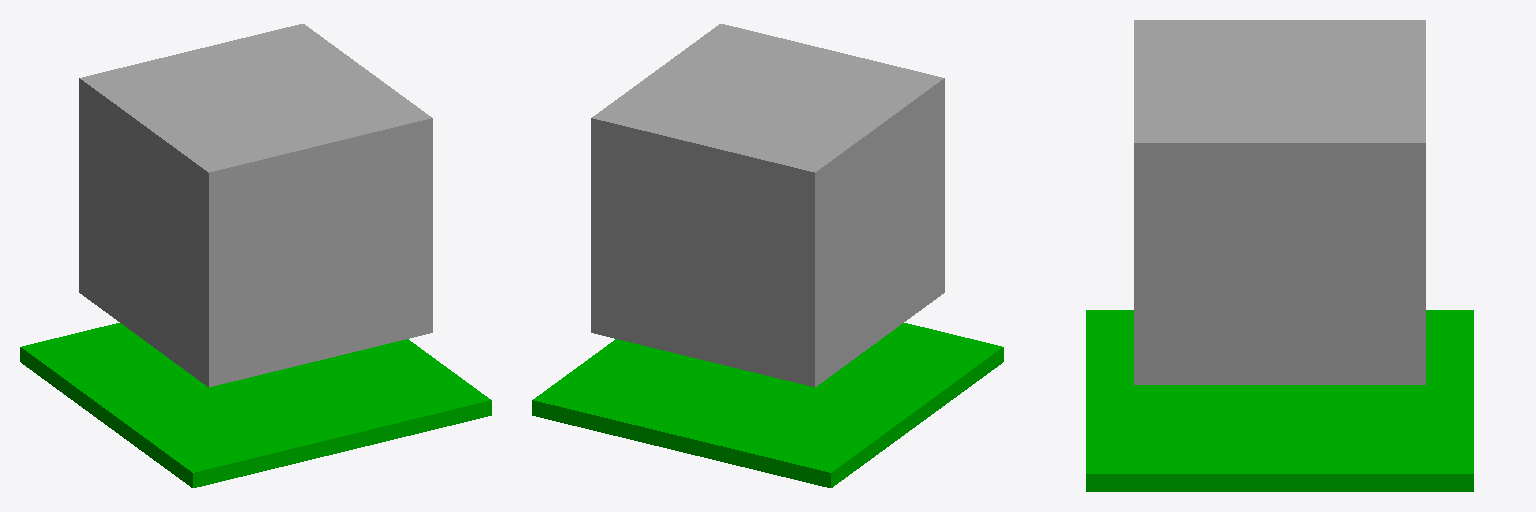
URDF robot description (workcell_bin):
<?xml version="1.0" ?>
<robot name="workcell_bin">
  <link name="workcell_bin_link">
    <inertial>
      <mass value="0"/>
      <origin rpy="0  0  0" xyz="0  0  0"/>
      <inertia ixx="0" ixy="0" ixz="0" iyy="0" iyz="0" izz="0"/>
    </inertial>
    <collision name="workcell_bin_center_collision">
      <origin rpy="0 0 0" xyz="0 0 0.45"/>
      <geometry>
        <box size="0.6 0.6 0.55"/>
      </geometry>
    </collision>
    <visual>
      <origin rpy="0 0 0" xyz="0 0 0.45"/>
      <geometry>
        <box size="0.6 0.6 0.55"/>
      </geometry>
      <material name="Blue">
        <color rgba="0.7 0.7 0.7 1.0"/>
        <texture filename="model://ur_description/material/gazebo.material" />
      </material>
    </visual>
    <collision name="workcell_bin_base">
      <origin rpy="0  0  0" xyz="0       0       0.10024"/>
      <geometry>
        <box size="0.66836 0.66836 0.20049"/>
      </geometry>
    </collision>
    <collision name="workcell_bin_left_wall">
      <origin rpy="0  0  0" xyz="-0.319    0       0.39544"/>
      <geometry>
        <box size="0.003 0.63803 0.79089"/>
      </geometry>
    </collision>
    <collision name="workcell_bin_right_wall">
      <origin rpy="0  0  0" xyz="0.319    0       0.39544"/>
      <geometry>
        <box size="0.003 0.63803 0.79089"/>
      </geometry>
    </collision>
    <collision name="workcell_bin_front_left_wall">
      <origin rpy="0  0  0" xyz="-0.2533   0.31899  0.39544"/>
      <geometry>
        <box size="0.13437 0.003 0.79089"/>
      </geometry>
    </collision>
    <collision name="workcell_bin_front_mid_wall">
      <origin rpy="0  0  0" xyz="0       0.31899  0.25284"/>
      <geometry>
        <box size="0.37226 0.003 0.50569"/>
      </geometry>
    </collision>
    <collision name="workcell_bin_front_right_wall">
      <origin rpy="0  0  0" xyz="0.2533   0.31899  0.39544"/>
      <geometry>
        <box size="0.13437 0.003 0.79089"/>
      </geometry>
    </collision>
    <collision name="workcell_bin_back_left_wall">
      <origin rpy="0  0  0" xyz="-0.2533  -0.31899  0.39544"/>
      <geometry>
        <box size="0.13437 0.003 0.79089"/>
      </geometry>
    </collision>
    <collision name="workcell_bin_back_mid_wall">
      <origin rpy="0  0  0" xyz="0      -0.31899  0.25284"/>
      <geometry>
        <box size="0.37226 0.003 0.50569"/>
      </geometry>
    </collision>
    <collision name="workcell_bin_back_right_wall">
      <origin rpy="0  0  0" xyz="0.2533  -0.31899  0.39544"/>
      <geometry>
        <box size="0.13437 0.003 0.79089"/>
      </geometry>
    </collision>
    <visual name="workcell_bin_visual">
      <origin rpy="0  0  0" xyz="0  0  0"/>
      <geometry>
        <mesh filename="model://workcell_bin/meshes/bin.dae"/>
      </geometry>
    </visual>
  </link>

  <gazebo reference="workcell_bin_link">
    <material>Gazebo/Blue</material>
  </gazebo>
</robot>

--- What the picture shows (computed from the rendered views, not written in the file) ---
3 views of the same robot in one strip: view 1: azimuth 30°, elevation 25°; view 2: azimuth 150°, elevation 25°; view 3: azimuth 270°, elevation 25° (orthographic).
Robot: workcell_bin — 1 links, 0 joints (none); root link workcell_bin_link; default pose: all joints at 0.
Links seen in each view (by area): view 1: workcell_bin_link; view 2: workcell_bin_link; view 3: workcell_bin_link.
Boxes of the visible links, x1=… form: workcell_bin_link: x1=20, y1=24, x2=491, y2=487; workcell_bin_link: x1=532, y1=24, x2=1003, y2=487; workcell_bin_link: x1=1086, y1=20, x2=1473, y2=491.
Size in the robot's own frame: 0.8 by 0.8 by 0.745 metres.
1 mesh visuals loaded from 1 distinct referenced files (1 Collada DAE).